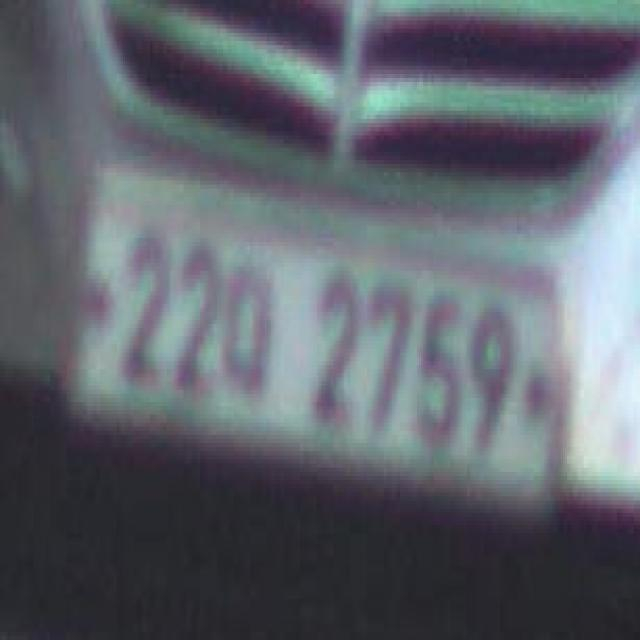2: (303, 255, 368, 432), (113, 221, 174, 395), (167, 229, 226, 407)
5: (410, 279, 470, 458)
7: (362, 273, 419, 444)
9: (465, 291, 526, 463)
da: (224, 247, 281, 412)
license_plate: (78, 176, 553, 490)
